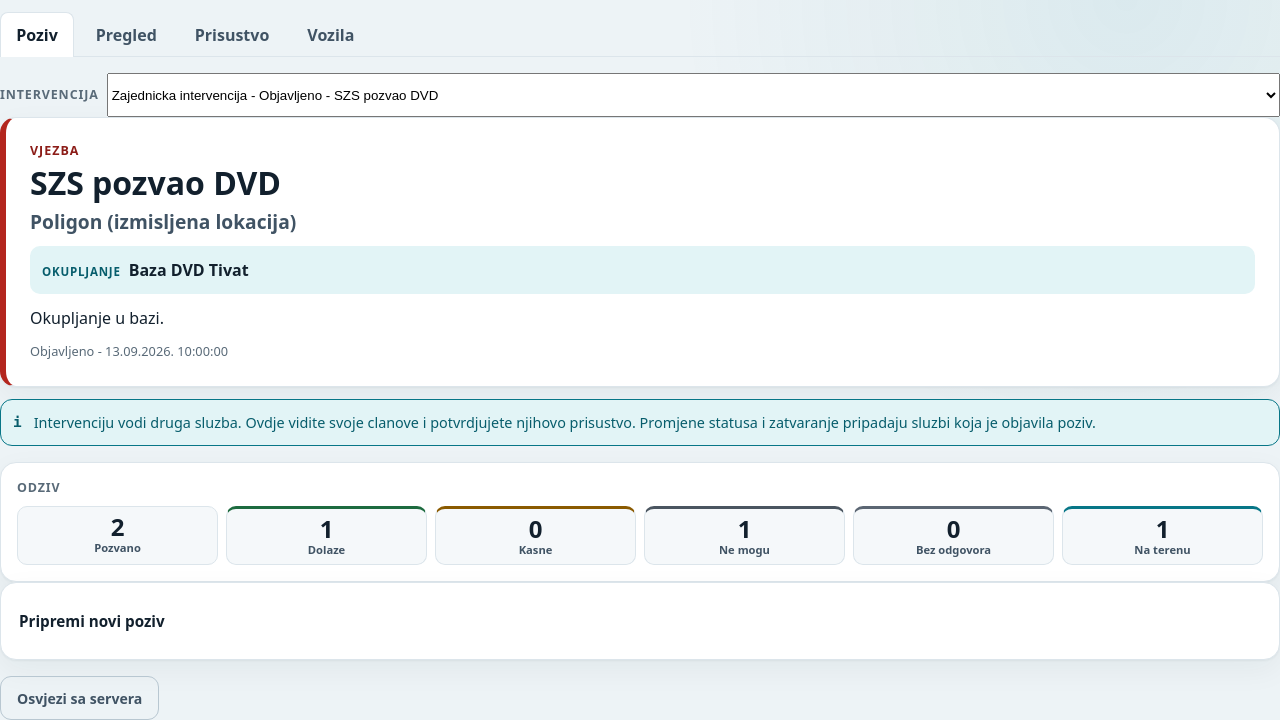
Test: P7 targeted service command › lets the targeted commander manage their own attendance without controlling the publisher lifecycle
The width and height of the screenshot is (1280, 720).
Expected: the element with test id "joint-command-scope" is shown, [0,399,1279,446]
Click the tab "Prisustvo": (232, 34) [179,12,286,56]
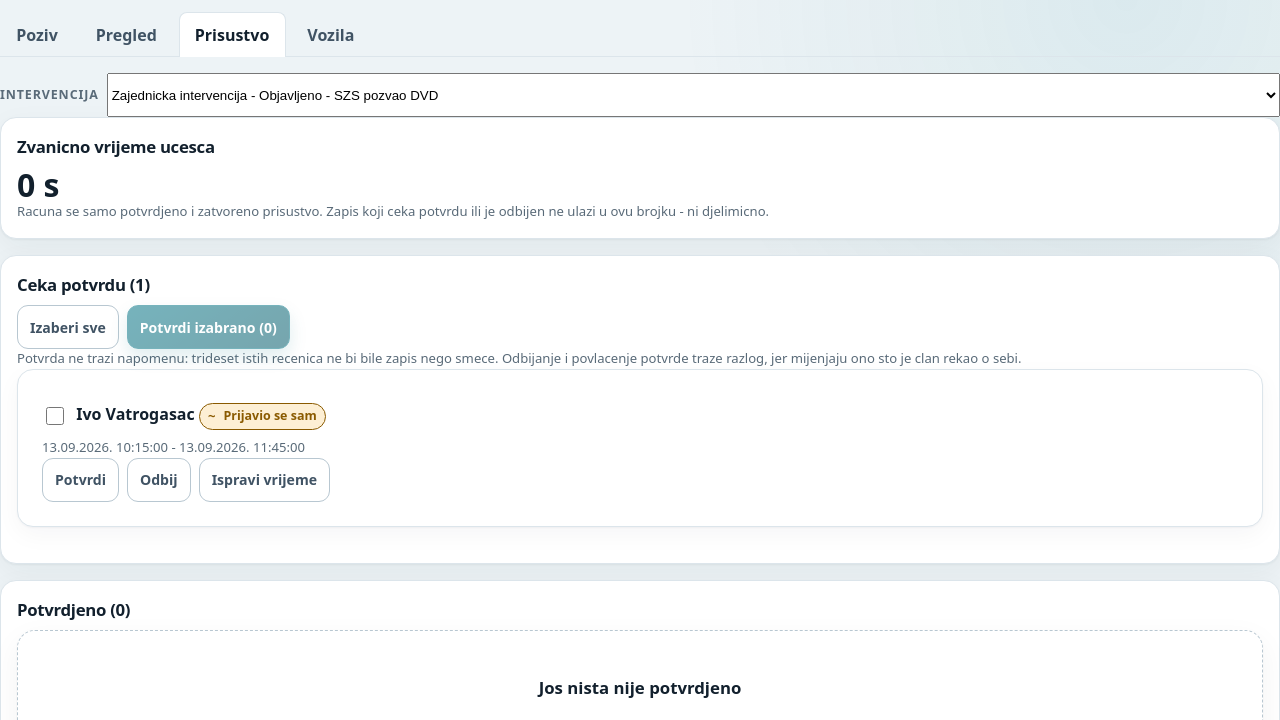
Now the list with test id "pending-list" shows "Ivo Vatrogasac", box [76,403,195,425]
